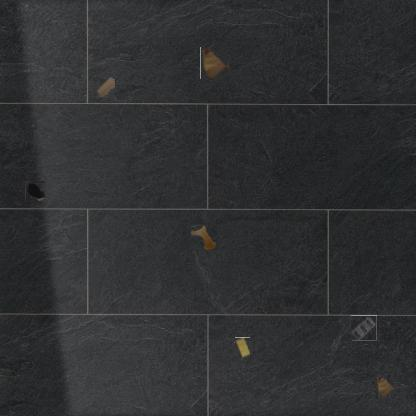dirty: (199, 49, 229, 78), (352, 315, 377, 341), (374, 376, 396, 398), (94, 76, 116, 98), (234, 337, 250, 358)
liquid: (191, 223, 217, 250), (25, 181, 45, 202)
